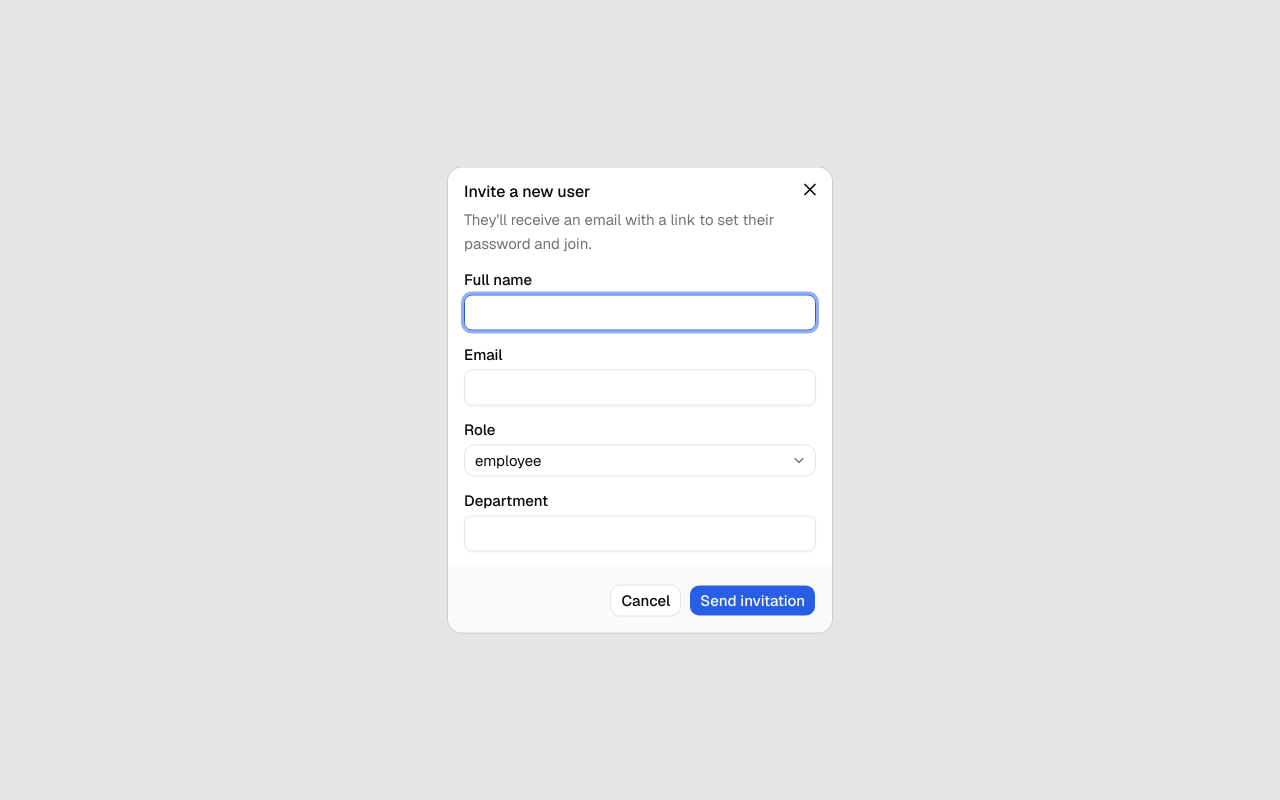
Test: CreateInvitationDialog › disables the submit button while the request is pending
The width and height of the screenshot is (1280, 800).
Type "Ada Lovelace" into the field labelled "Full name". click: (640, 312)
box: [464,294,816,330]
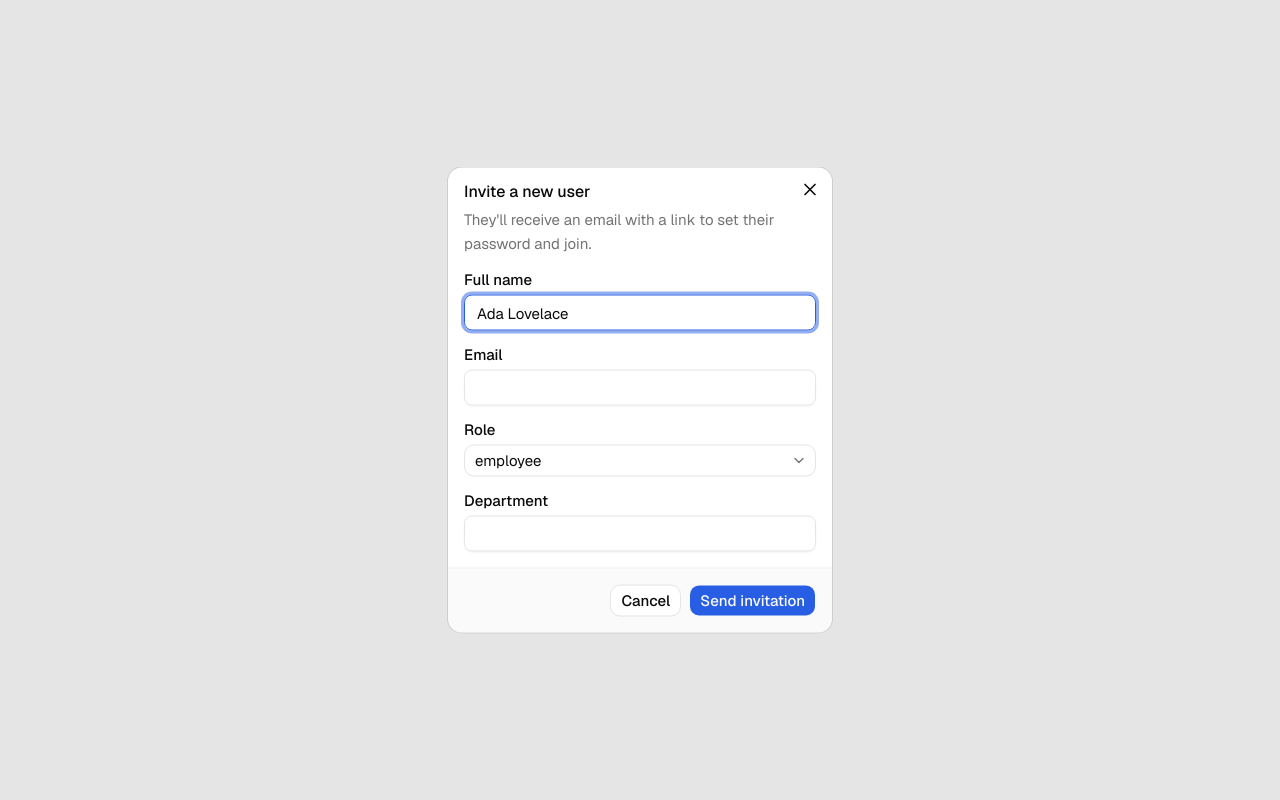
Type "ada@example.com" into the field labelled "Email". click: (640, 388)
box: [464,370,816,406]
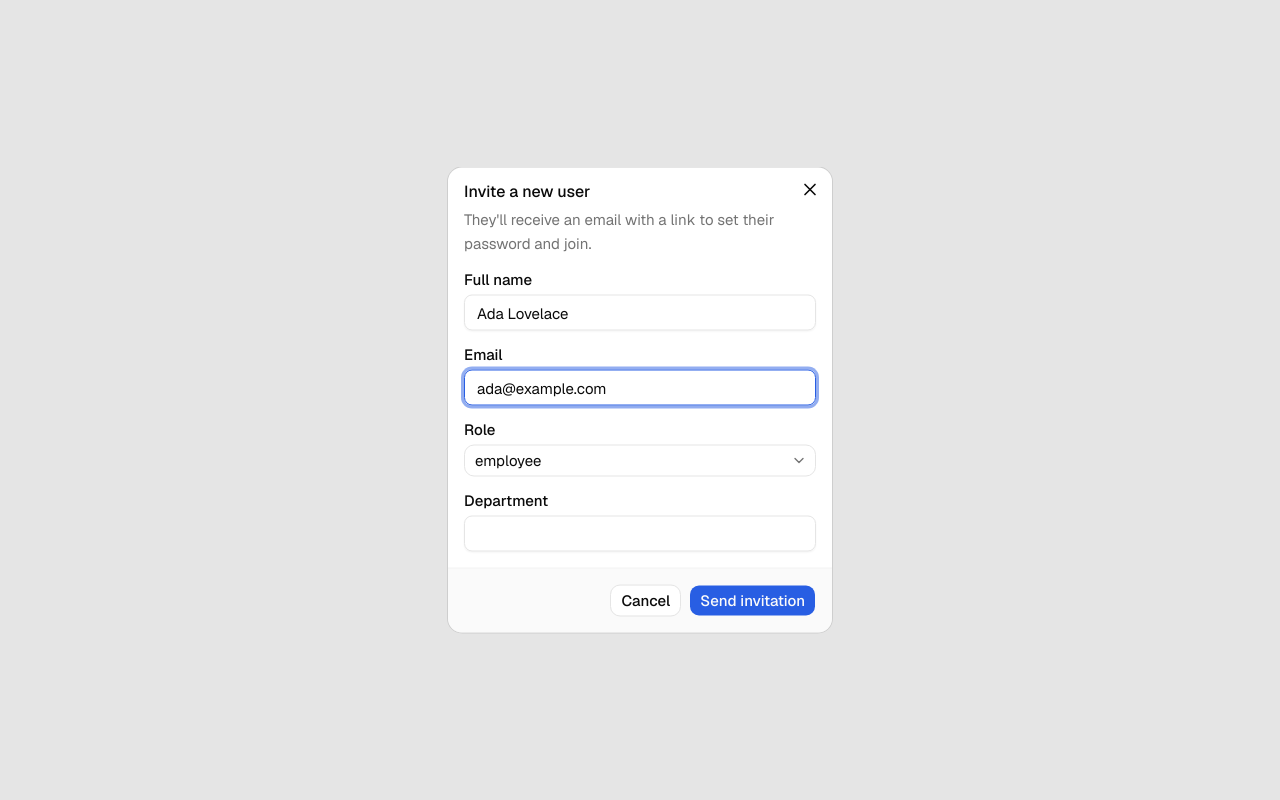
Click the button "Send invitation". click: (753, 600)
box: [689,584,816,616]
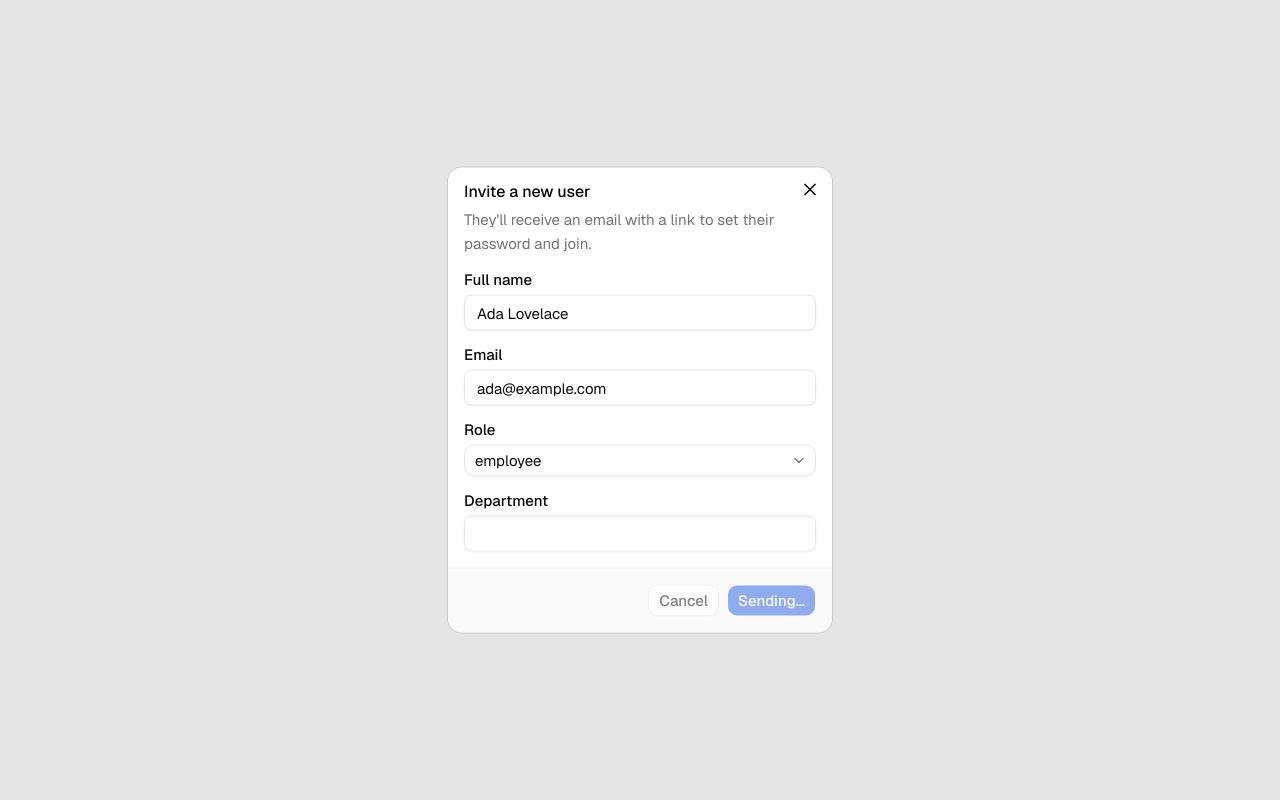
Check: the button "Sending…" is disabled, box [727,584,816,616]
